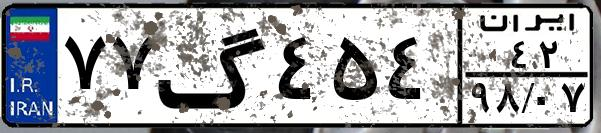0: (535, 70, 560, 125)
2: (537, 27, 568, 80)
4: (270, 28, 330, 110), (385, 28, 445, 110), (508, 27, 537, 80)
5: (330, 28, 385, 110)
7: (57, 26, 110, 100), (110, 28, 156, 98), (560, 70, 590, 125)
8: (495, 70, 520, 125)
9: (470, 70, 495, 125)
گ: (156, 12, 270, 120)
